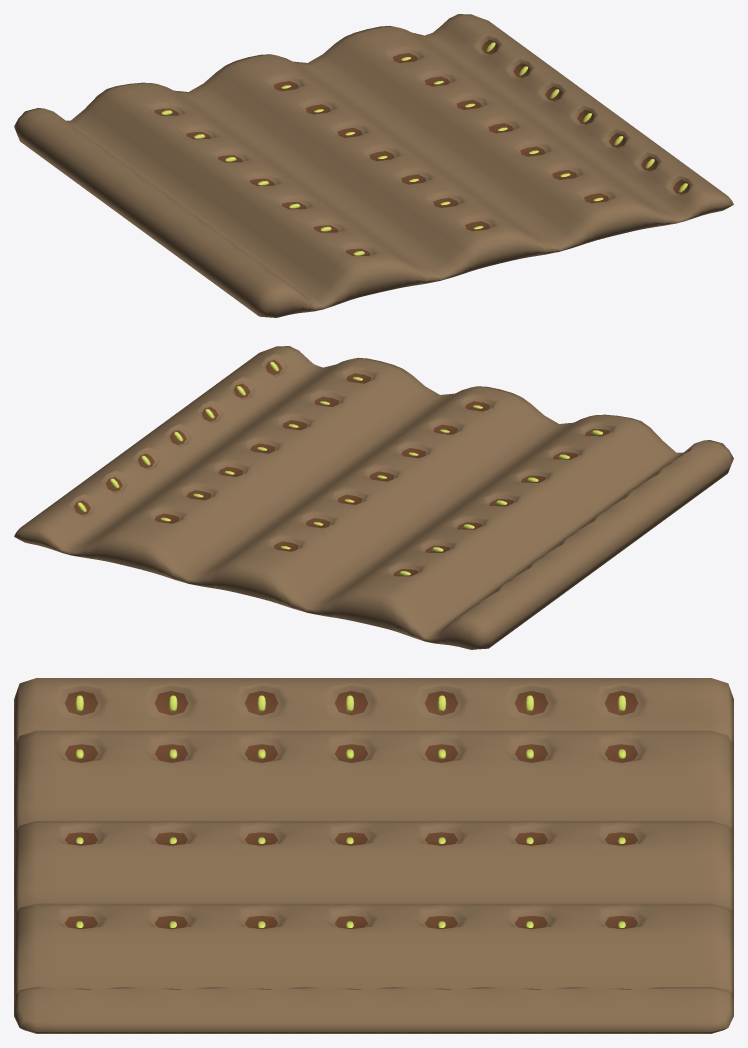
Rendered from Seeded_feeld_3.fbx.
3 renders of one model, top to bottom at view 1: azimuth 30°, elevation 25°; view 2: azimuth 150°, elevation 25°; view 3: azimuth 270°, elevation 25°, orthographic. The views are drawn at different scales.
Visible parts, largest first — view 1: pCube158; view 2: pCube158; view 3: pCube158.
Part boxes in pixels (x1,y1,x2,y2): pCube158: [14, 14, 733, 317]; pCube158: [14, 346, 733, 649]; pCube158: [14, 678, 733, 1033].
Size of the model in its own units: 18.63 by 1.26 by 17.31.
